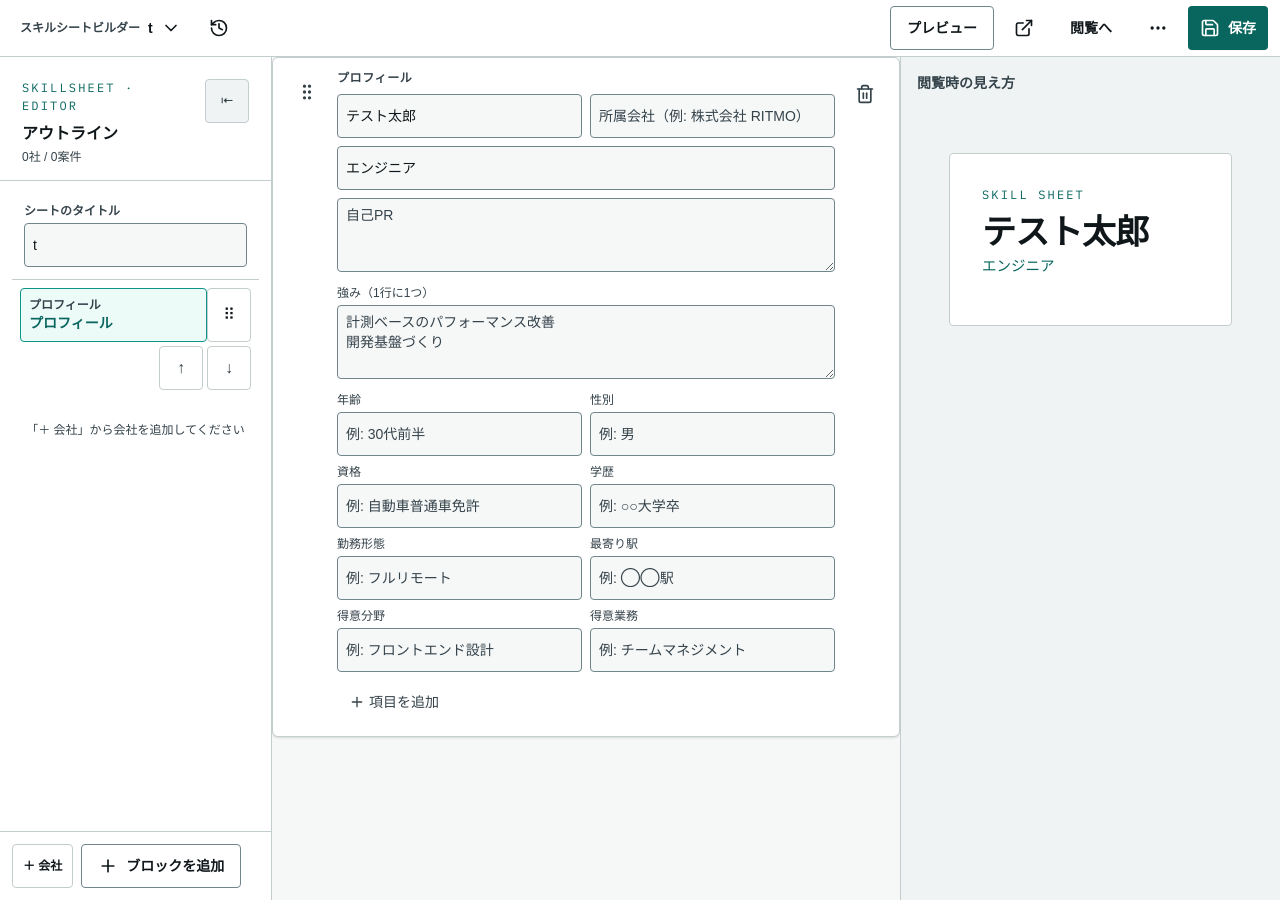
it: BuilderClient › カスタム項目のラベルが空で値だけある行は、重複メッセージではなく未入力の専用メッセージを表示する
Step 1. Click the button "項目を追加" → x=394, y=702, box [337,680,451,724]
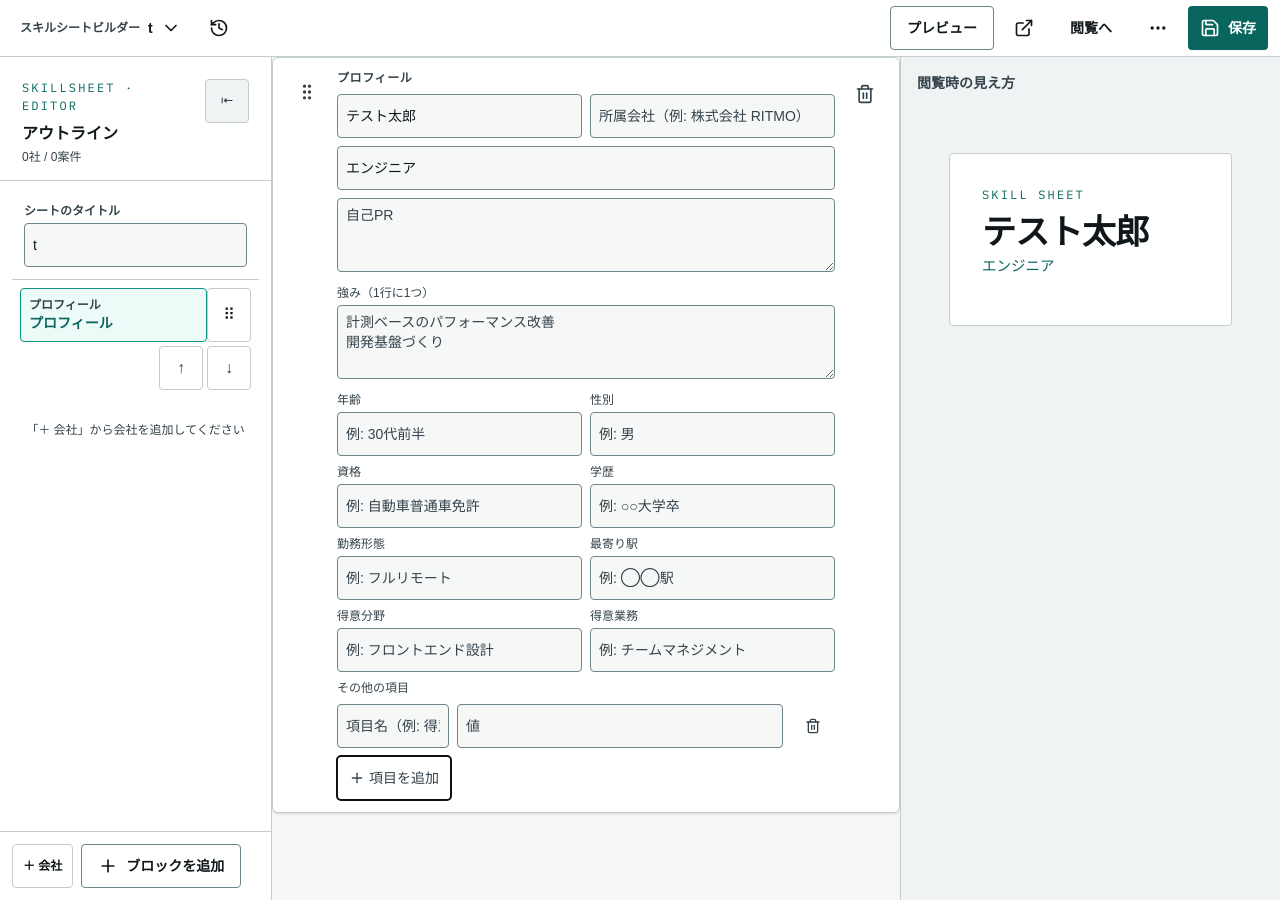
Step 2. Type "A型" into the field labelled "値" → x=620, y=726, box [457,704,783,748]
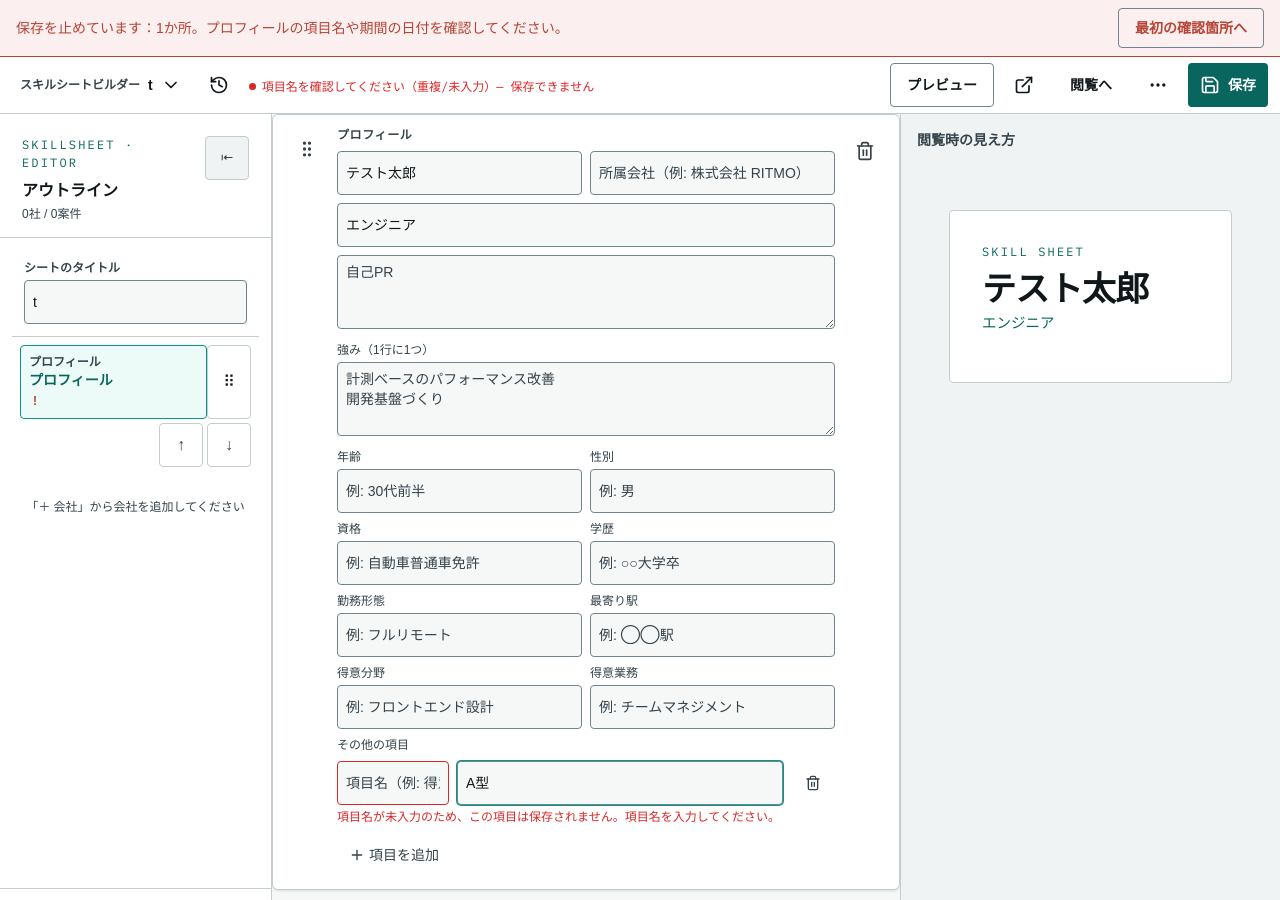
expect the text "項目名が未入力のため、この項目は保存されません。項目名を入力してください。" is shown: met, box [337,809,835,825]
expect the message with test id "input-issues" shows "保存を止めています：1か所": met, box [16,20,569,36]
